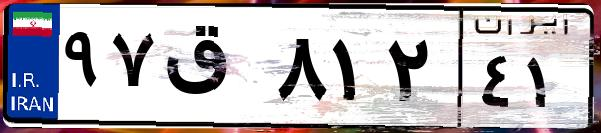1: (330, 28, 385, 110), (525, 38, 570, 115)
2: (385, 28, 445, 110)
4: (475, 38, 525, 113)
7: (110, 28, 158, 98)
8: (270, 28, 330, 110)
9: (57, 26, 110, 100)
ق: (158, 20, 270, 120)
